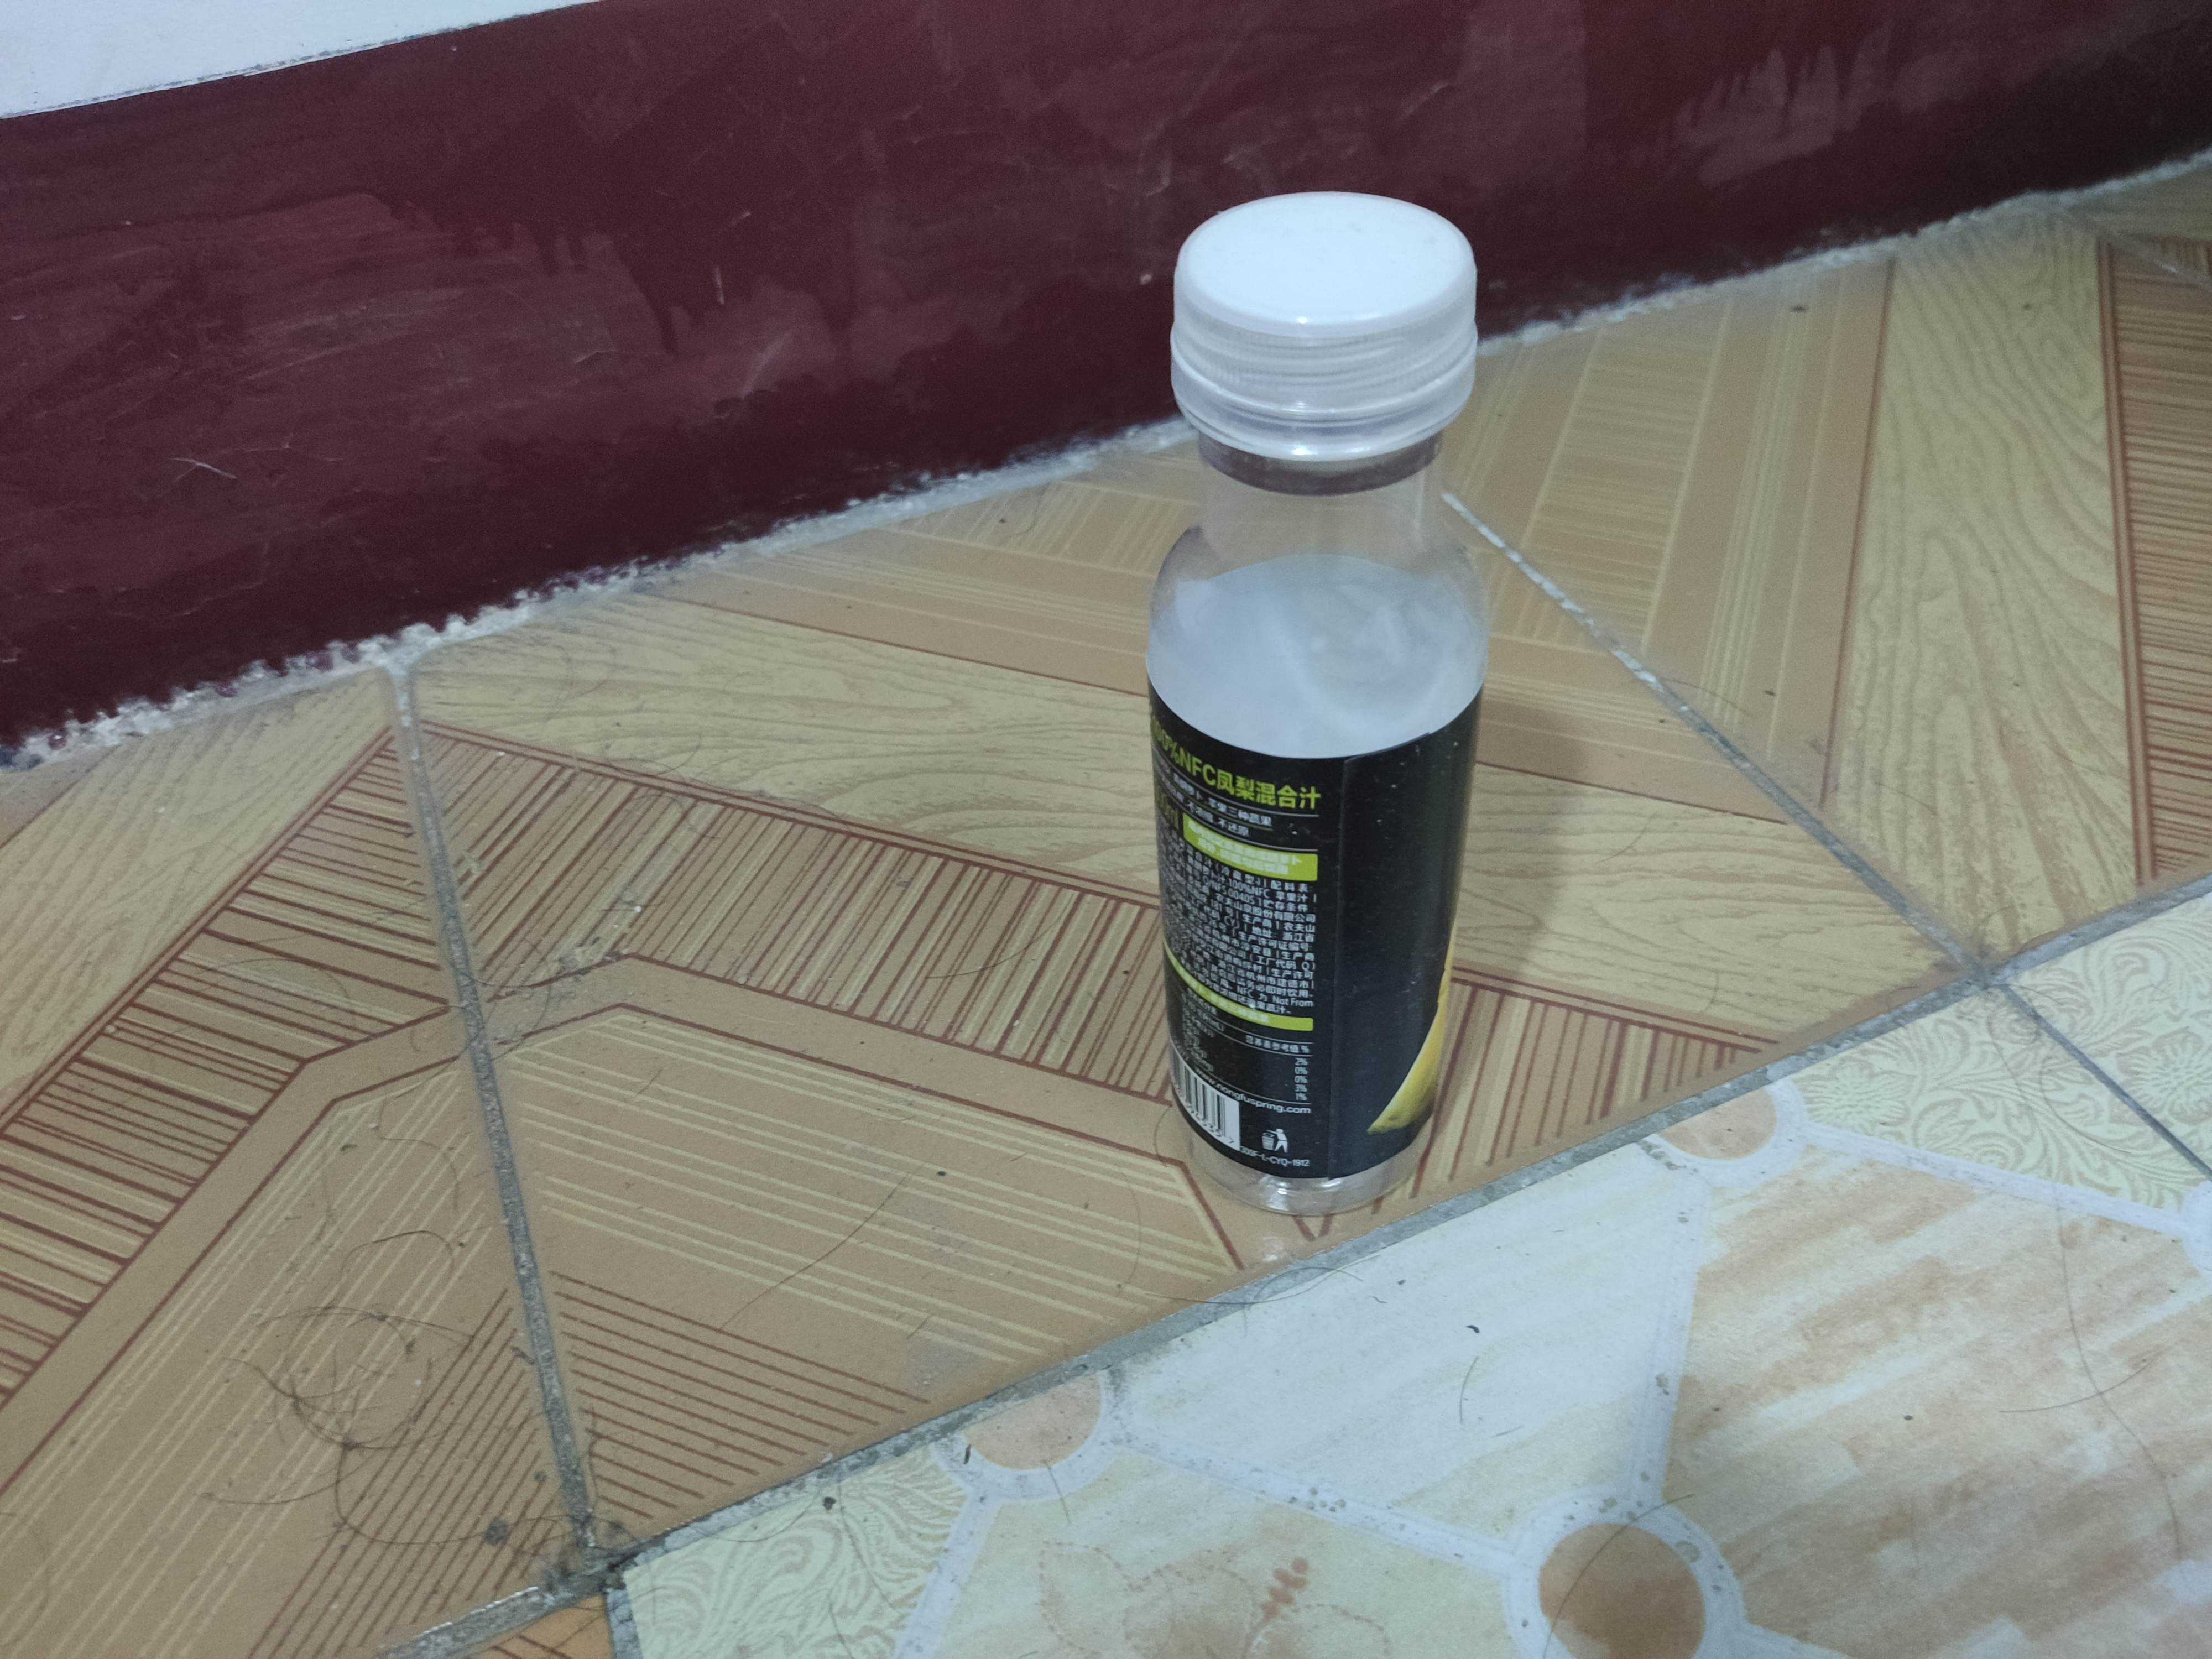Plastic Bottle: (1130, 178, 1501, 1232)
